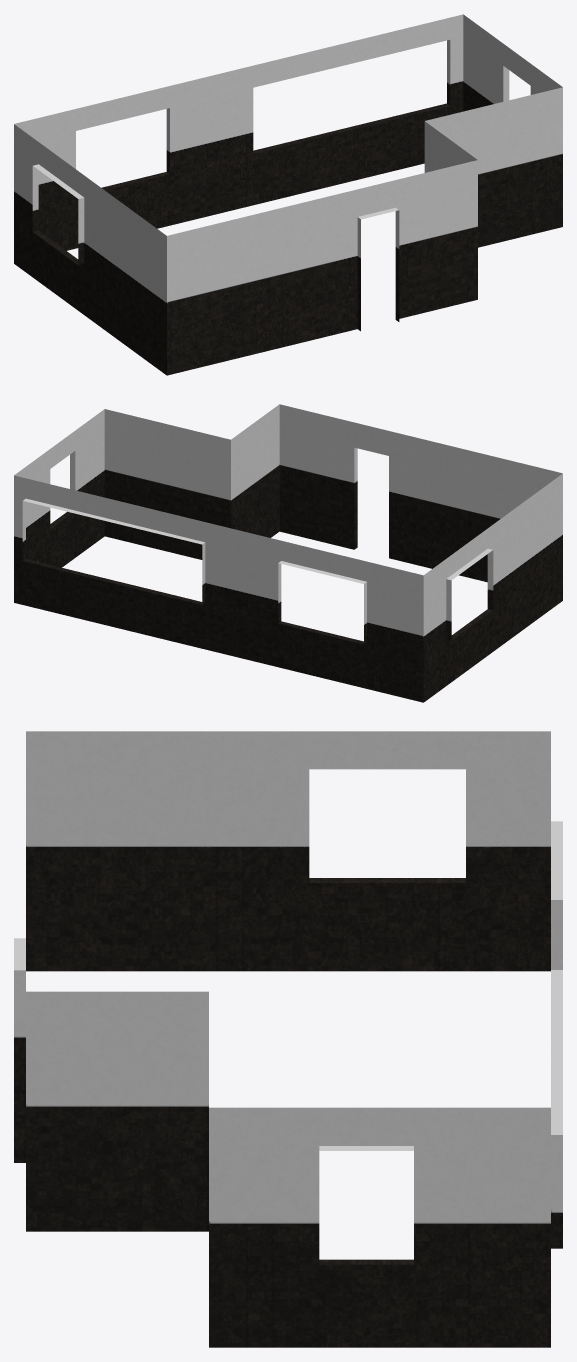
Rendered from bedroom_0_0.wall.glb.
The picture shows the model from 3 angles, top to bottom: view 1: azimuth 30°, elevation 25°; view 2: azimuth 150°, elevation 25°; view 3: azimuth 270°, elevation 25°; orthographic projection. The views are drawn at different scales.
Parts seen in each view (by area): view 1: bedroom_0/0.wall.001; view 2: bedroom_0/0.wall.001; view 3: bedroom_0/0.wall.001.
Part boxes in pixels (x1,y1,x2,y2): bedroom_0/0.wall.001: (14, 14, 562, 375); bedroom_0/0.wall.001: (14, 404, 562, 702); bedroom_0/0.wall.001: (14, 731, 562, 1347).
Size of the model in its own units: 10 by 2.89 by 6.
Materials: 1 (1 with a texture image).
